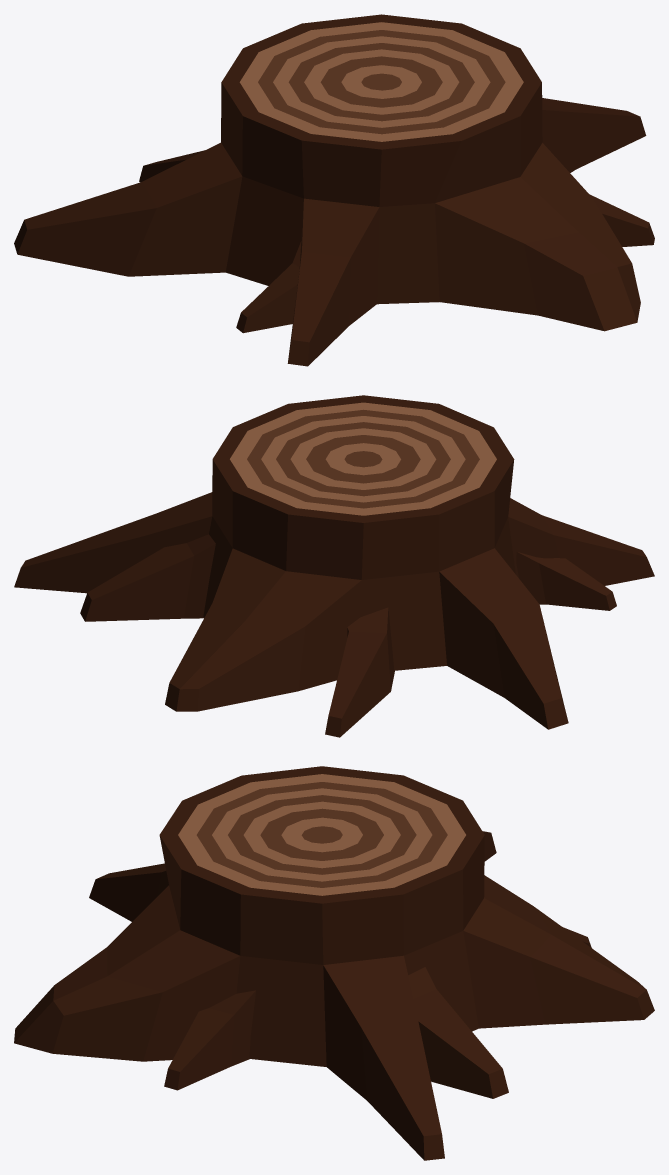
File: Stump.fbx
The picture shows the model from 3 angles, top to bottom: view 1: azimuth 30°, elevation 25°; view 2: azimuth 150°, elevation 25°; view 3: azimuth 270°, elevation 25°; orthographic projection. The views are drawn at different scales.
Visible parts, largest first — view 1: STUMP; view 2: STUMP; view 3: STUMP.
Part boxes in pixels (bbox=[...]): STUMP: bbox=[14, 14, 654, 366]; STUMP: bbox=[14, 395, 654, 737]; STUMP: bbox=[14, 766, 654, 1160].
Bounding box in the file's own units: 374 × 101 × 338.
